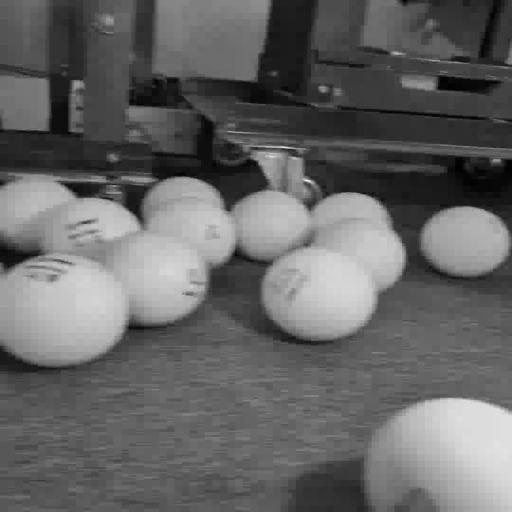fuel: (363, 398, 511, 511), (0, 252, 129, 367), (260, 246, 378, 342), (100, 230, 209, 326), (313, 219, 406, 292), (419, 207, 511, 277), (39, 198, 141, 261), (145, 198, 235, 267), (231, 190, 311, 262), (0, 177, 75, 251), (141, 177, 225, 222), (312, 192, 392, 231)
